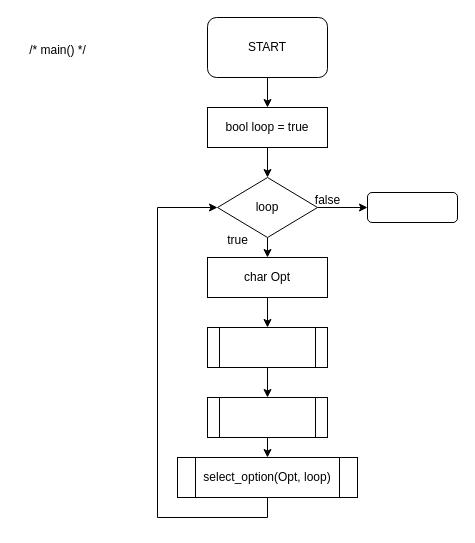
This 475x543 diagram has some shape labels left out. The shapes that lost their labels are listed below. From the top down, each one's box as (x1, y1, x2, y2) in pixels, then its label:
(366, 192, 458, 222): RETURN 0
(206, 326, 328, 368): clear_screen()
(206, 396, 328, 438): instruct()
